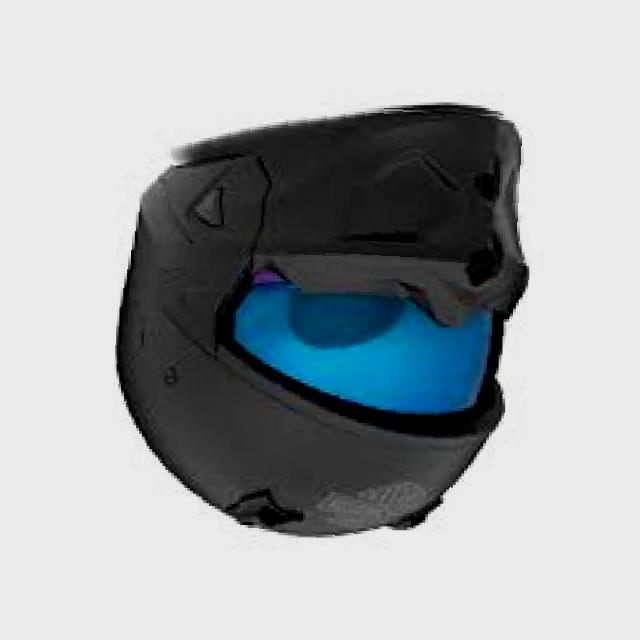helmet: (112, 101, 532, 544)
